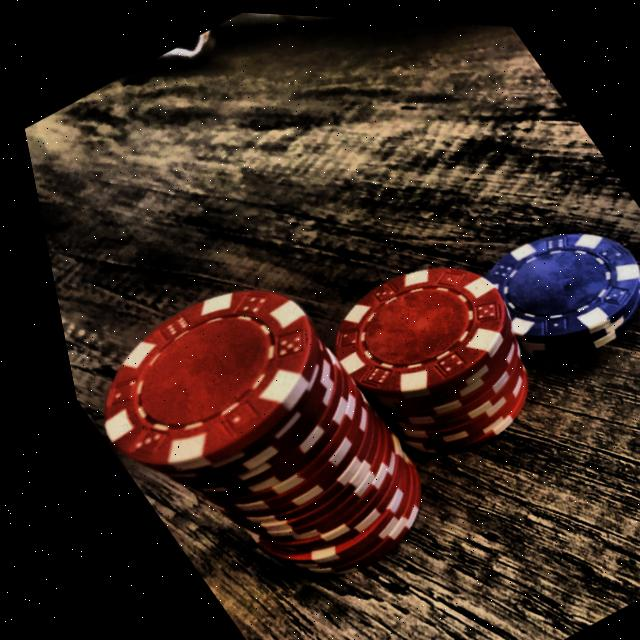Chip: (38, 247, 455, 639), (281, 226, 574, 483), (440, 190, 640, 382)
